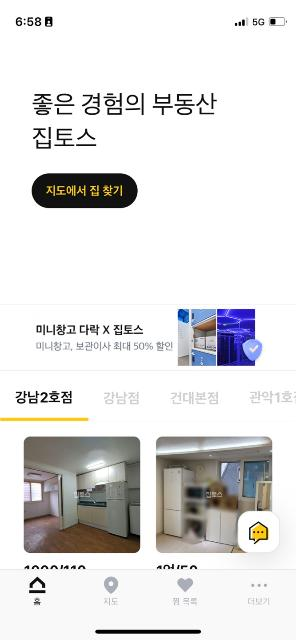Bottom_Navigation: (0, 568, 296, 640)
Icon: (250, 522, 268, 544), (28, 576, 46, 592), (104, 577, 118, 595), (177, 578, 193, 592), (251, 584, 267, 588)
Image: (157, 436, 273, 554), (24, 437, 140, 553), (177, 308, 263, 364)
ImageButton: (239, 512, 279, 552)
Multi_Tab: (1, 370, 296, 420)
Text: (34, 92, 218, 148), (37, 342, 173, 351), (37, 324, 143, 334), (48, 186, 122, 197), (16, 391, 72, 403), (172, 392, 218, 404), (250, 392, 296, 404), (102, 392, 140, 404), (248, 596, 270, 606), (172, 598, 198, 606), (103, 597, 119, 605), (34, 597, 40, 605)
TextButton: (32, 172, 138, 208)
TextImageButton: (172, 578, 198, 606), (248, 582, 270, 606), (29, 576, 45, 606), (104, 577, 118, 605)
UpperTaskBar: (0, 1, 296, 42)
